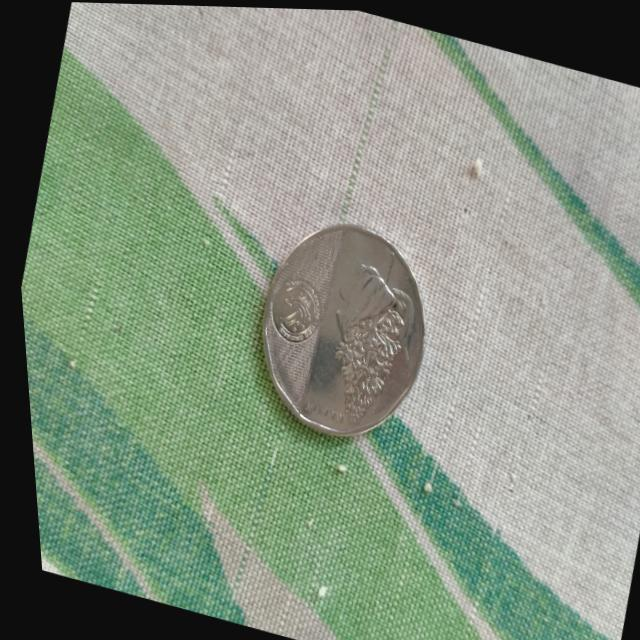10_New_Back: (288, 231, 438, 446)
